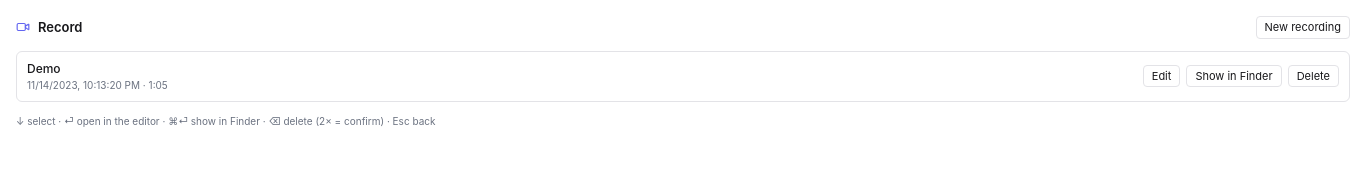
it: RecordPanel › the Edit button opens the editor; an editor error is shown in words
Click the button "Edit" at {"x": 1162, "y": 76}, box [1143,65,1180,87]
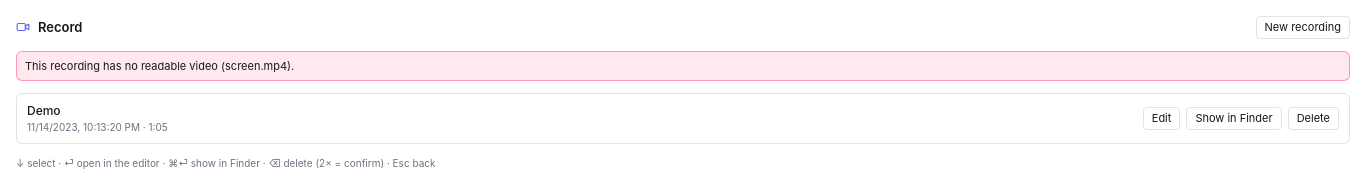
expect the text "This recording has no readable video (screen.mp4)." is shown: met, box [16,50,1350,81]
